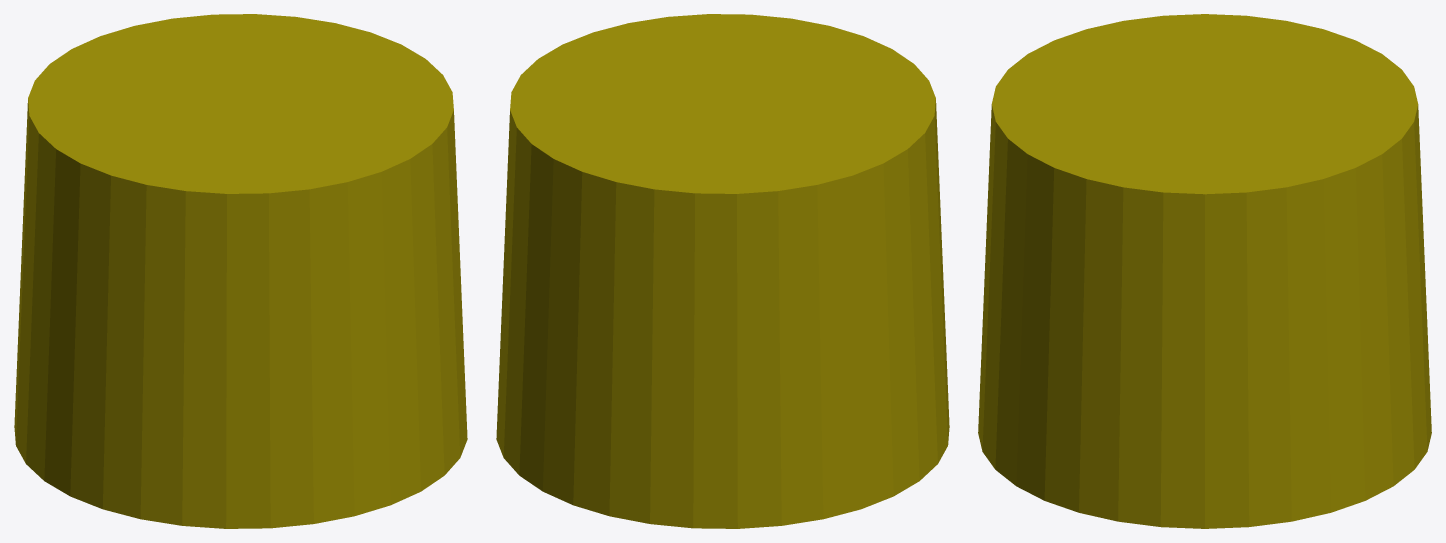
Rendered from yellow_cup.obj.
3 renders of one model, left to right at view 1: azimuth 30°, elevation 25°; view 2: azimuth 150°, elevation 25°; view 3: azimuth 270°, elevation 25°, orthographic.
Visible parts, largest first — view 1: yellow_cup_Cylinder.002; view 2: yellow_cup_Cylinder.002; view 3: yellow_cup_Cylinder.002.
Boxes of the visible parts, <box> form: yellow_cup_Cylinder.002: <box>14,14,467,528</box>; yellow_cup_Cylinder.002: <box>496,14,949,528</box>; yellow_cup_Cylinder.002: <box>978,14,1431,528</box>.
Bounding box in the file's own units: 0.0781 × 0.0625 × 0.0781.
